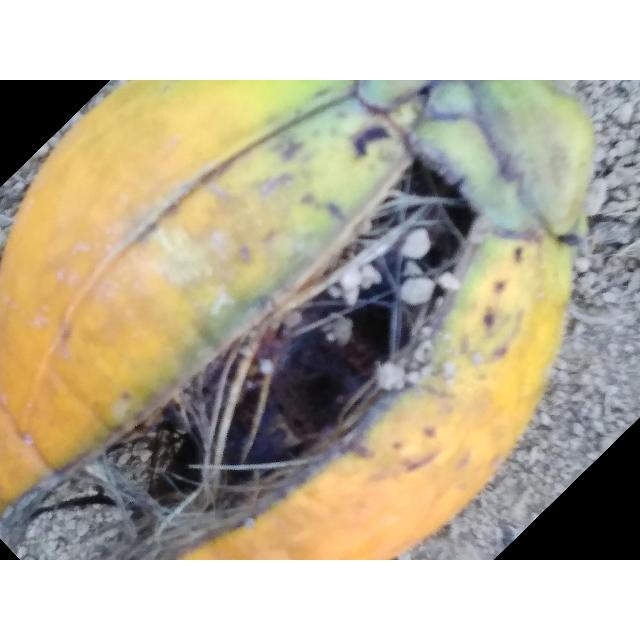damaged: (0, 80, 594, 560)
